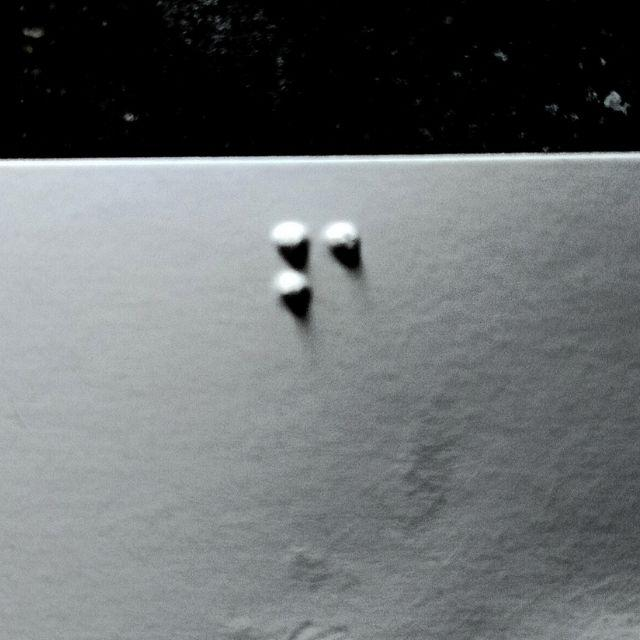f: (272, 220, 365, 361)
